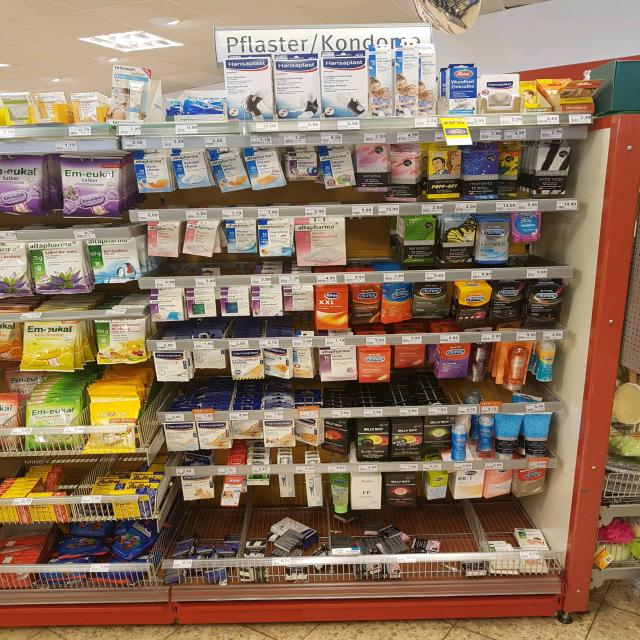unorganised: (332, 520, 482, 581), (130, 150, 287, 191), (248, 520, 329, 578), (489, 520, 558, 576), (167, 527, 234, 582), (107, 62, 153, 123), (345, 218, 395, 263), (387, 146, 424, 202), (316, 143, 359, 189), (297, 421, 353, 455), (263, 347, 317, 381), (451, 415, 491, 460), (183, 222, 224, 262), (558, 77, 602, 107), (382, 284, 414, 325), (350, 286, 383, 324), (281, 283, 314, 319), (500, 145, 522, 197), (393, 345, 428, 376), (424, 419, 452, 457), (516, 466, 547, 500), (1, 91, 33, 123), (218, 474, 245, 511), (37, 91, 65, 123), (487, 466, 513, 500), (191, 351, 227, 370), (232, 422, 264, 443), (277, 473, 297, 500)
